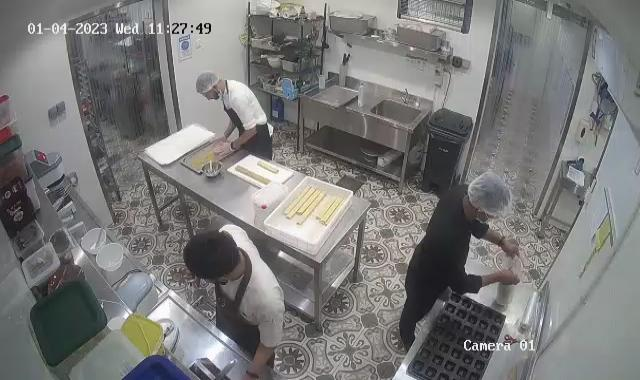hairnet: (468, 168, 512, 217), (194, 68, 222, 96)
no_hairnet: (182, 229, 241, 284)
